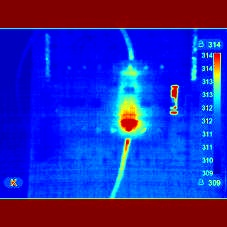Critical: (107, 89, 151, 150)
